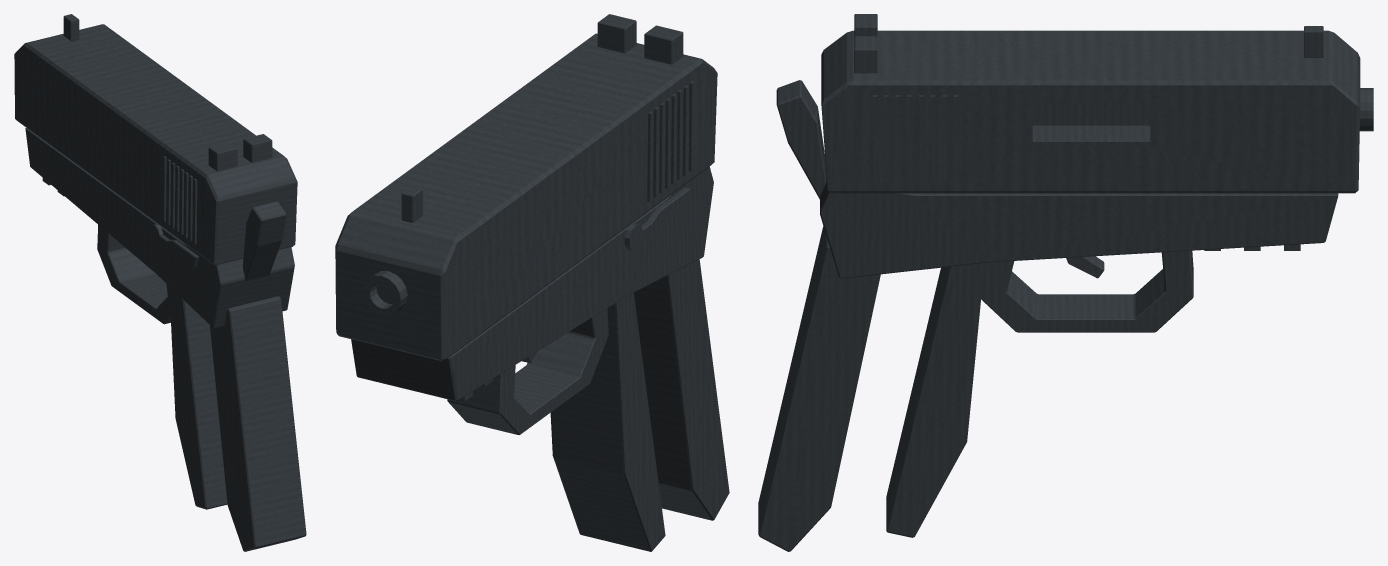
File: weapon_mp443.glb
The picture shows the model from 3 angles, left to right: view 1: azimuth 30°, elevation 25°; view 2: azimuth 150°, elevation 25°; view 3: azimuth 270°, elevation 25°; orthographic projection. The views are drawn at different scales.
Visible parts, largest first — view 1: body_LOD0, action_LOD0; view 2: action_LOD0, body_LOD0; view 3: action_LOD0, body_LOD0.
Boxes of the visible parts, x1,y1,x2,y2 form: body_LOD0: [25, 128, 306, 551]; action_LOD0: [14, 14, 297, 265]; action_LOD0: [335, 14, 717, 361]; body_LOD0: [351, 167, 729, 551]; action_LOD0: [821, 14, 1360, 193]; body_LOD0: [758, 80, 1373, 551].
Size of what is drawn, in the model's own units: 0.0784 by 0.3375 by 0.3708.
1 material, 1 textured.
